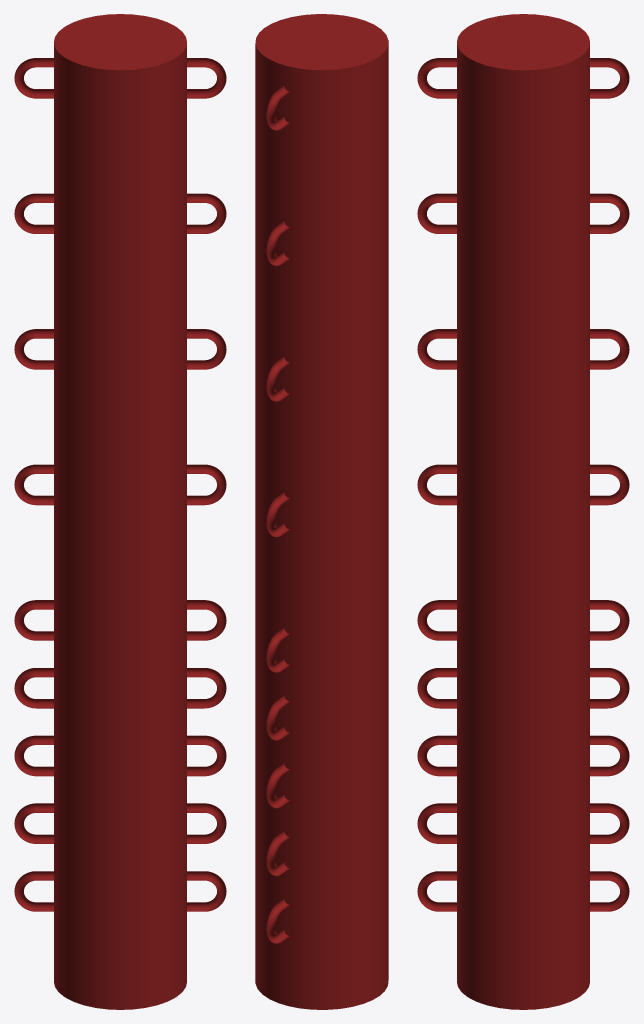
The picture shows the model from 3 angles, left to right: view 1: azimuth 90°, elevation 25°; view 2: azimuth 150°, elevation 25°; view 3: azimuth 270°, elevation 25°; orthographic projection.
Size of the model in its own units: 0.2674 by 2.08 by 0.4254.
